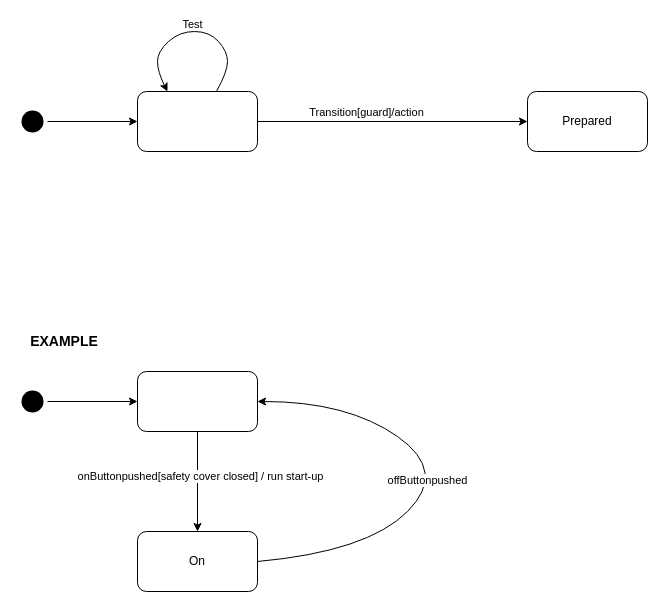
Image size: 665x609. Some labels were removed from this diagram. Here are the shapes that lost their labels. From the top down, the centre of each, then its label:
(x=197, y=121): Proposal
(x=197, y=401): Off
